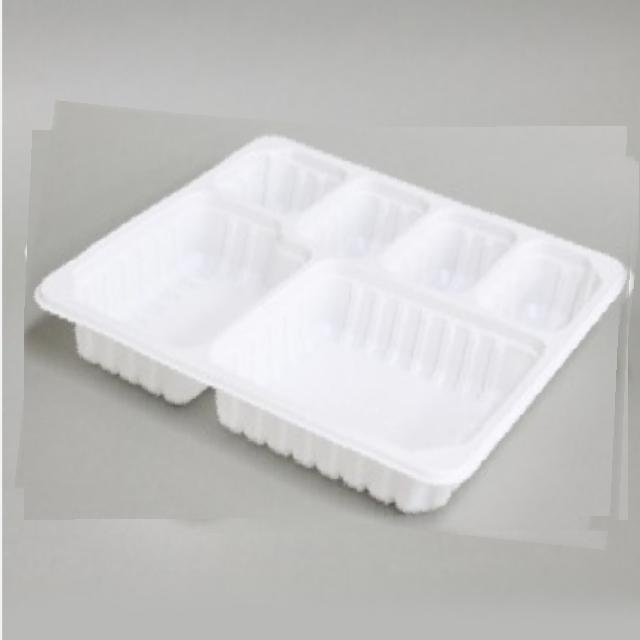recyclable: (24, 115, 637, 535)
